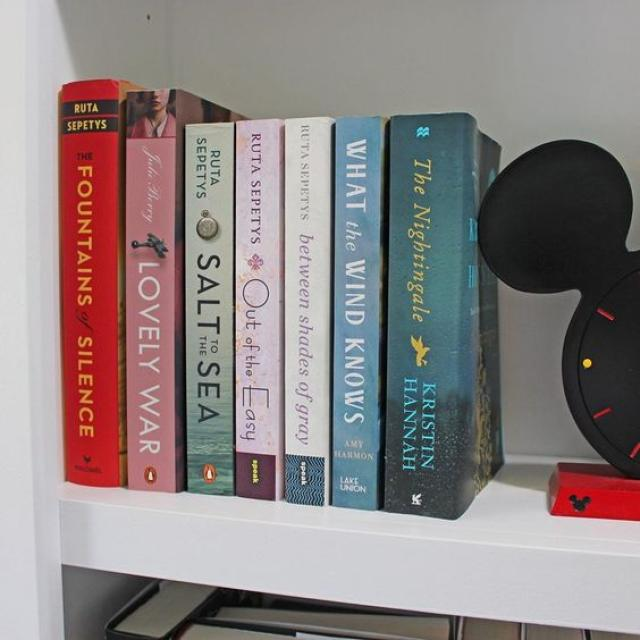book: (59, 79, 141, 486), (392, 115, 460, 518), (126, 90, 184, 491), (330, 117, 384, 510), (284, 120, 334, 506), (184, 124, 235, 495), (235, 120, 283, 500)
